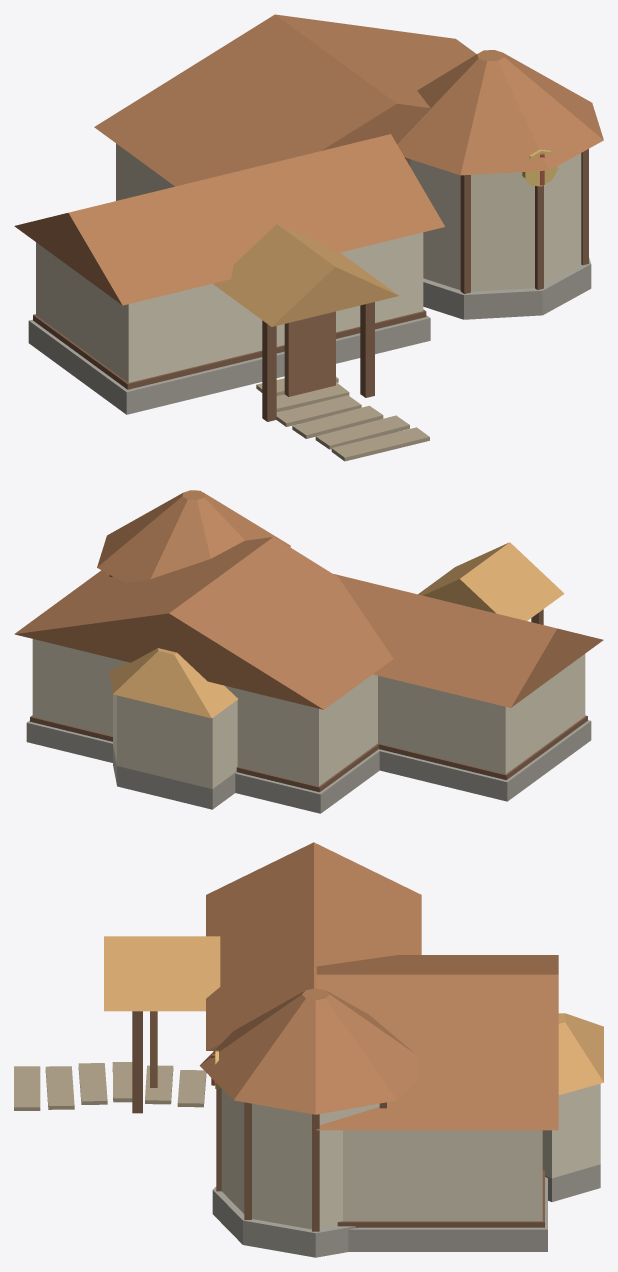
File: B_wayfarer_l.glb
The picture shows the model from 3 angles, top to bottom: view 1: azimuth 30°, elevation 25°; view 2: azimuth 150°, elevation 25°; view 3: azimuth 270°, elevation 25°; orthographic projection. The views are drawn at different scales.
Visible parts, largest first — view 1: B_GreatHall_GableRoof, B_RecordGallery_GableRoof, B_RecordGallery_Plaster, B_ChartTower_HippedRoof, B_ChartTower_Plaster, B_EntryGable, B_RecordGallery_StoneBase, B_ChartTower_StoneBase, B_Arrival_Door, B_RecordGallery_BaseBand, B_GreatHall_Plaster, PathStone_0.001 (+9 smaller); view 2: B_GreatHall_GableRoof, B_RecordGallery_GableRoof, B_GreatHall_Plaster, B_RecordGallery_Plaster, B_ChartTower_HippedRoof, B_ProvisionBay, B_EntryGable, B_ProvisionBayRoof, B_GreatHall_StoneBase, B_RecordGallery_StoneBase, B_ProvisionBayBase, B_GreatHall_BaseBand (+1 smaller); view 3: B_GreatHall_GableRoof, B_RecordGallery_GableRoof, B_GreatHall_Plaster, B_ChartTower_HippedRoof, B_ChartTower_Plaster, B_EntryGable, B_GreatHall_StoneBase, B_ProvisionBay, B_ChartTower_StoneBase, B_ProvisionBayRoof, B_GreatHall_BaseBand, B_ProvisionBayBase (+11 smaller).
Boxes of the visible parts, x1,y1,x2,y2 form: B_GreatHall_GableRoof: (94, 14, 476, 186); B_RecordGallery_GableRoof: (14, 134, 444, 305); B_RecordGallery_Plaster: (36, 232, 423, 382); B_ChartTower_HippedRoof: (397, 50, 603, 175); B_ChartTower_Plaster: (410, 153, 581, 291); B_EntryGable: (213, 224, 398, 326); B_RecordGallery_StoneBase: (28, 315, 430, 414); B_ChartTower_StoneBase: (423, 257, 591, 319); B_Arrival_Door: (284, 311, 335, 396); B_RecordGallery_BaseBand: (33, 309, 426, 389); B_GreatHall_Plaster: (116, 143, 174, 200); PathStone_0.001: (331, 427, 429, 461); B_GreatHall_GableRoof: (14, 537, 393, 709); B_RecordGallery_GableRoof: (333, 574, 603, 707); B_GreatHall_Plaster: (32, 639, 377, 786); B_RecordGallery_Plaster: (378, 654, 585, 774); B_ChartTower_HippedRoof: (97, 490, 290, 582); B_ProvisionBay: (113, 694, 237, 788); B_EntryGable: (418, 542, 564, 620); B_ProvisionBayRoof: (109, 648, 237, 718); B_GreatHall_StoneBase: (26, 720, 379, 813); B_RecordGallery_StoneBase: (377, 720, 591, 801); B_ProvisionBayBase: (113, 746, 236, 809); B_GreatHall_BaseBand: (30, 715, 379, 792); B_GreatHall_GableRoof: (316, 955, 558, 1130); B_RecordGallery_GableRoof: (206, 842, 421, 1050); B_GreatHall_Plaster: (343, 1130, 542, 1221); B_ChartTower_HippedRoof: (199, 988, 418, 1114); B_ChartTower_Plaster: (221, 1088, 379, 1229); B_EntryGable: (104, 936, 220, 1011); B_GreatHall_StoneBase: (348, 1177, 547, 1251); B_ProvisionBay: (542, 1083, 600, 1178); B_ChartTower_StoneBase: (212, 1186, 358, 1257); B_ProvisionBayRoof: (558, 1013, 603, 1095); B_GreatHall_BaseBand: (337, 1170, 544, 1227); B_ProvisionBayBase: (545, 1164, 600, 1201).
Bounding box in the file's own units: 16.03 × 6.47 × 15.74.
